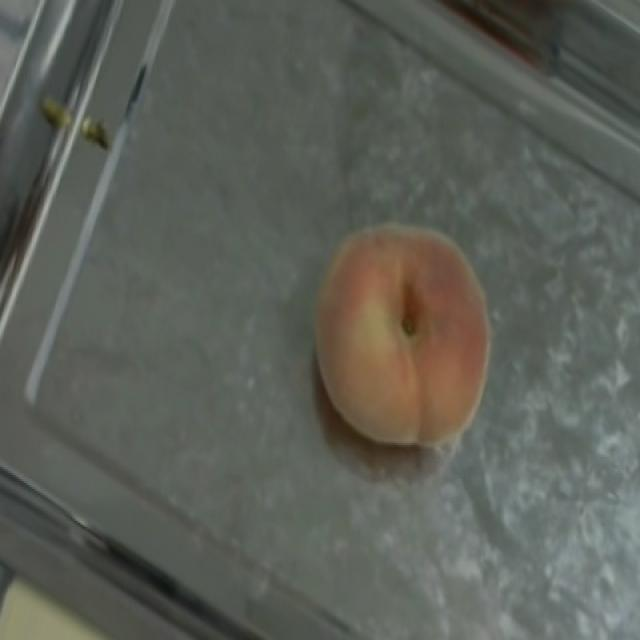Fruit: (269, 181, 531, 479), (0, 544, 160, 640)
